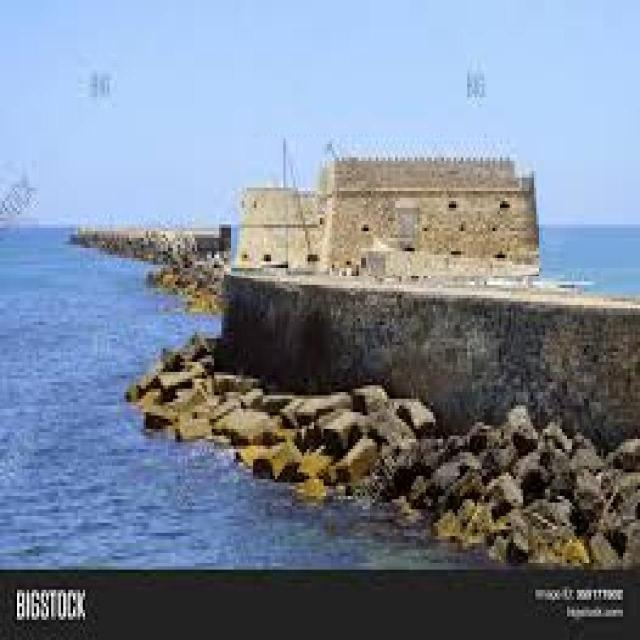Kules: (232, 139, 540, 277)
